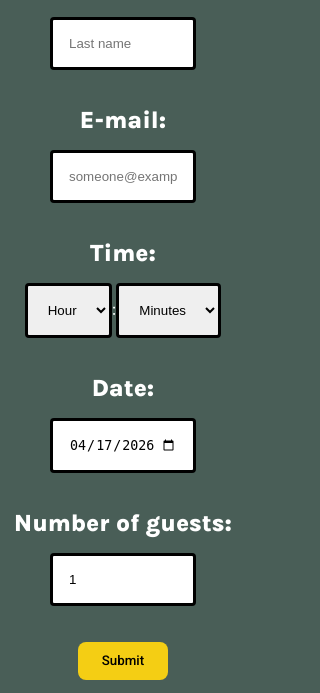
Test: missing text test › check first name error
(page scrolled)
Click the button "Submit".
click(123, 661)  # box [78,642,168,680]
(page scrolled)
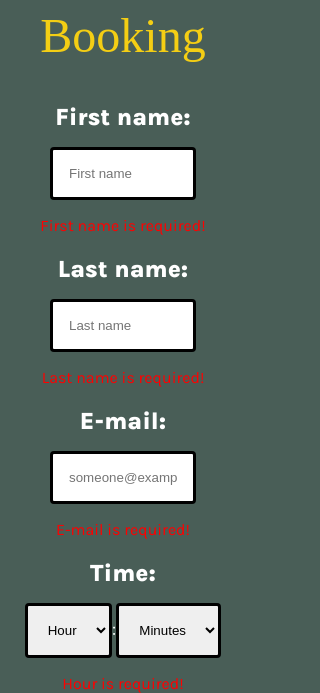
Expected: the text "First name is required!" is shown, [40,216,206,235]
